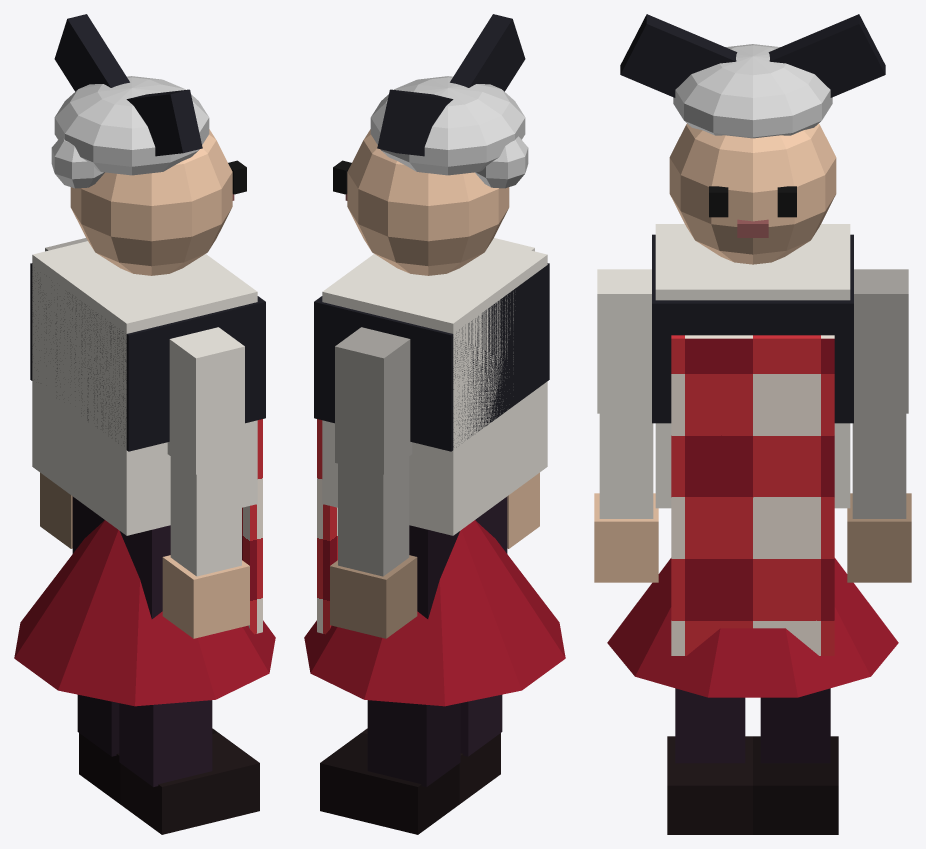
File: pnj_winstubiere.glb
3 renders of one model, left to right at view 1: azimuth 30°, elevation 25°; view 2: azimuth 150°, elevation 25°; view 3: azimuth 270°, elevation 25°, orthographic. The views are drawn at different scales.
Parts seen in each view (by area): view 1: p_box.1697, p_cone.003, p_sph.441, p_box.1698, p_box.1706, p_sph.442, p_box.1693, p_box.1699, p_box.1692, p_box.1700, p_box.1709, p_box.1708 (+7 smaller); view 2: p_box.1697, p_cone.003, p_box.1706, p_sph.441, p_box.1701, p_sph.442, p_box.1696, p_box.1702, p_box.1695, p_box.1703, p_box.1708, p_box.1709 (+7 smaller); view 3: p_box.1707, p_cone.003, p_sph.441, p_box.1697, p_box.1706, p_sph.442, p_box.1701, p_box.1698, p_box.1696, p_box.1693, p_box.1702, p_box.1699 (+8 smaller).
Boxes of the visible parts, <box> form: p_box.1697: <box>32,241,257,535</box>; p_cone.003: <box>14,520,275,706</box>; p_sph.441: <box>70,129,232,275</box>; p_box.1698: <box>167,327,244,474</box>; p_box.1706: <box>30,263,265,451</box>; p_sph.442: <box>54,76,209,175</box>; p_box.1693: <box>120,732,259,834</box>; p_box.1699: <box>170,456,241,576</box>; p_box.1692: <box>119,700,212,786</box>; p_box.1700: <box>162,555,249,638</box>; p_box.1709: <box>54,14,129,91</box>; p_box.1708: <box>126,89,202,156</box>; p_box.1697: <box>322,241,547,535</box>; p_cone.003: <box>304,520,565,706</box>; p_box.1706: <box>314,263,549,451</box>; p_sph.441: <box>347,129,509,275</box>; p_box.1701: <box>335,327,412,474</box>; p_sph.442: <box>370,76,525,175</box>; p_box.1696: <box>320,732,459,834</box>; p_box.1702: <box>338,456,409,576</box>; p_box.1695: <box>367,700,460,786</box>; p_box.1703: <box>330,555,417,638</box>; p_box.1708: <box>450,14,525,91</box>; p_box.1709: <box>377,89,453,156</box>; p_box.1707: <box>671,335,834,655</box>; p_cone.003: <box>607,558,898,697</box>; p_sph.441: <box>669,123,836,264</box>; p_box.1697: <box>655,224,850,508</box>; p_box.1706: <box>652,234,853,423</box>; p_sph.442: <box>673,44,832,138</box>; p_box.1701: <box>854,269,908,413</box>; p_box.1698: <box>597,269,651,413</box>; p_box.1696: <box>753,736,838,834</box>; p_box.1693: <box>667,736,752,834</box>; p_box.1702: <box>852,413,906,518</box>; p_box.1699: <box>599,413,653,518</box>.
Size of the model in its own units: 0.6657 by 2.19 by 0.815.
Materials: 14 (1 with a texture image).
